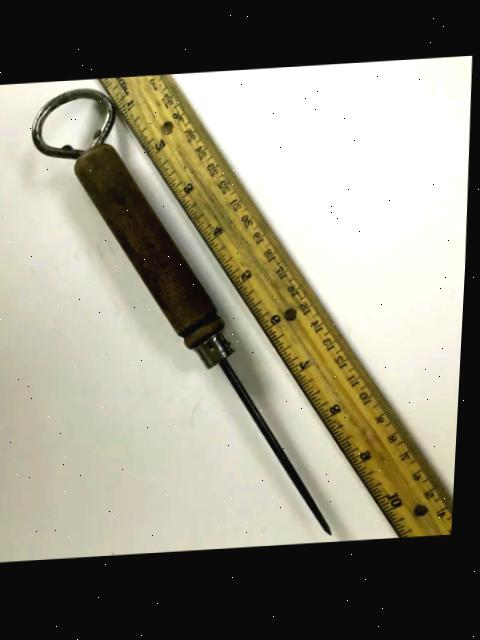ice pick: (59, 130, 355, 554)
